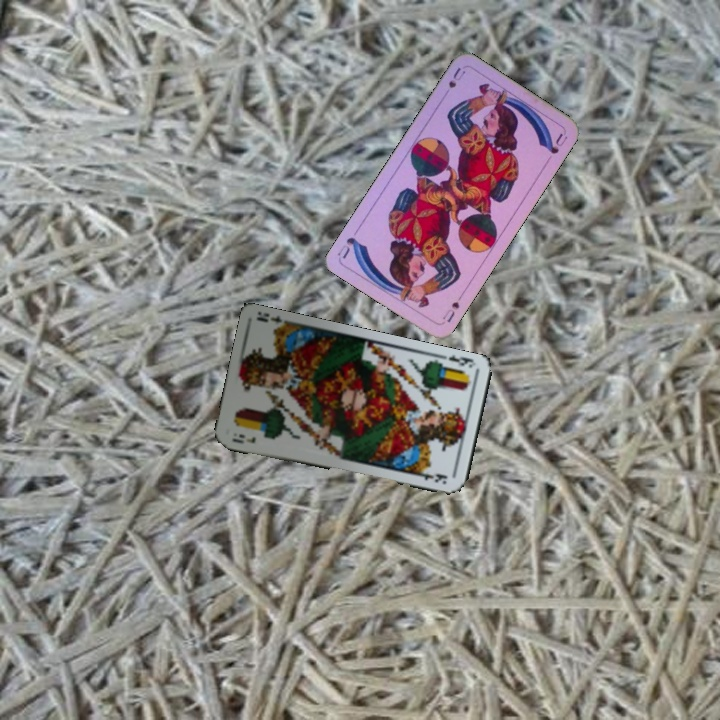EK: (444, 351, 478, 370), (228, 430, 258, 446)
SU: (440, 63, 468, 101), (438, 297, 462, 325)
